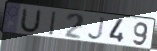2: (63, 12, 85, 41)
4: (108, 18, 127, 45)
9: (131, 21, 149, 47)
I: (48, 11, 58, 37)
J: (87, 16, 106, 42)
U: (18, 7, 43, 35)
